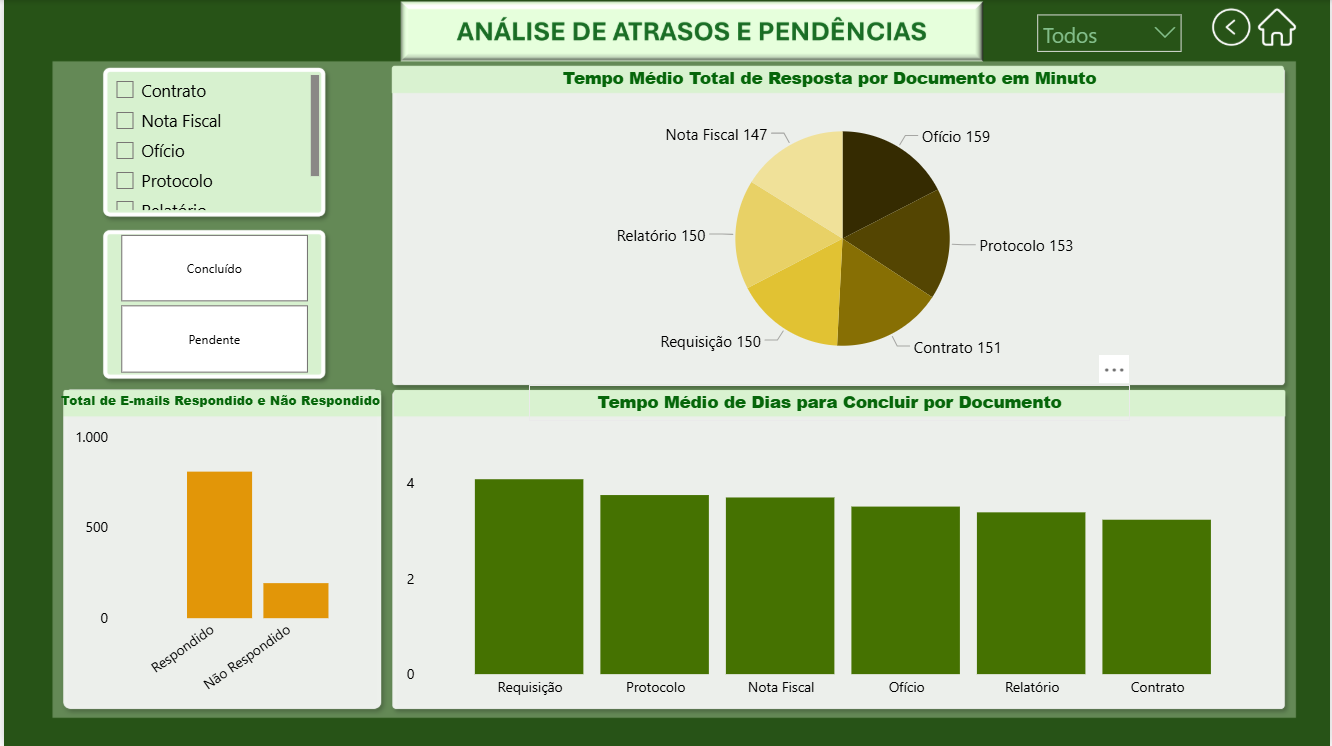

Layout of this report page (visuals, bound fields, positions):
{"tool":"powerbi","page":{"name":"Análise de atrasos e pendências","canvas":[1280,720],"ordinal":2},"visuals":[{"type":"pieChart","fields":{"Category":["Dados_ADM.Tipo_Documento"],"Y":["Dados_ADM.Tempo Médio de Resposta"]},"box":[383.6,94.1,851.7,272.7],"z":0},{"type":"clusteredColumnChart","fields":{"Category":["Dados_ADM.Tipo_Documento"],"Y":["Avg(Dados_ADM.Dias_para_Concluir)"]},"box":[375.2,406.6,860.2,276.3],"z":1000},{"type":"clusteredColumnChart","fields":{"Category":["Dados_ADM.Status_Email"],"Y":["Count(Dados_ADM.ID_Documento)"]},"box":[55.5,406.6,346.2,276.3],"z":2000},{"type":"slicer","fields":{"Values":["Dados_ADM.Status_Documento"]},"box":[86.9,219.6,230.4,147.2],"z":3000},{"type":"textbox","box":[47.1,371.6,328.2,35],"z":4000},{"type":"textbox","box":[506.7,59.1,580.3,35],"z":5000},{"type":"textbox","box":[506.7,371.6,580.3,35],"z":6000},{"type":"slicer","fields":{"Values":["Dados_ADM.Tipo_Documento"]},"box":[95.3,67.6,213.5,139.9],"z":7000},{"type":"actionButton","box":[1165.4,8.4,38.6,39.8],"z":8000},{"type":"actionButton","box":[1210.1,6,38.6,39.8],"z":9000}]}

Visuals, with their boxes in screenshot pixels (x1, y1, x2, y2), scaled from the page's 1280x720 canvas onto the 1332x746 screenshot:
pieChart - Dados_ADM.Tipo_Documento x Dados_ADM.Tempo Médio de Resposta: [x1=399, y1=97, x2=1285, y2=380]
clusteredColumnChart - Dados_ADM.Tipo_Documento x Avg(Dados_ADM.Dias_para_Concluir): [x1=390, y1=421, x2=1286, y2=708]
clusteredColumnChart - Dados_ADM.Status_Email x Count(Dados_ADM.ID_Documento): [x1=58, y1=421, x2=418, y2=708]
slicer - Dados_ADM.Status_Documento: [x1=90, y1=228, x2=330, y2=380]
textbox: [x1=49, y1=385, x2=391, y2=421]
textbox: [x1=527, y1=61, x2=1131, y2=97]
textbox: [x1=527, y1=385, x2=1131, y2=421]
slicer - Dados_ADM.Tipo_Documento: [x1=99, y1=70, x2=321, y2=215]
actionButton: [x1=1213, y1=9, x2=1253, y2=50]
actionButton: [x1=1259, y1=6, x2=1299, y2=47]
